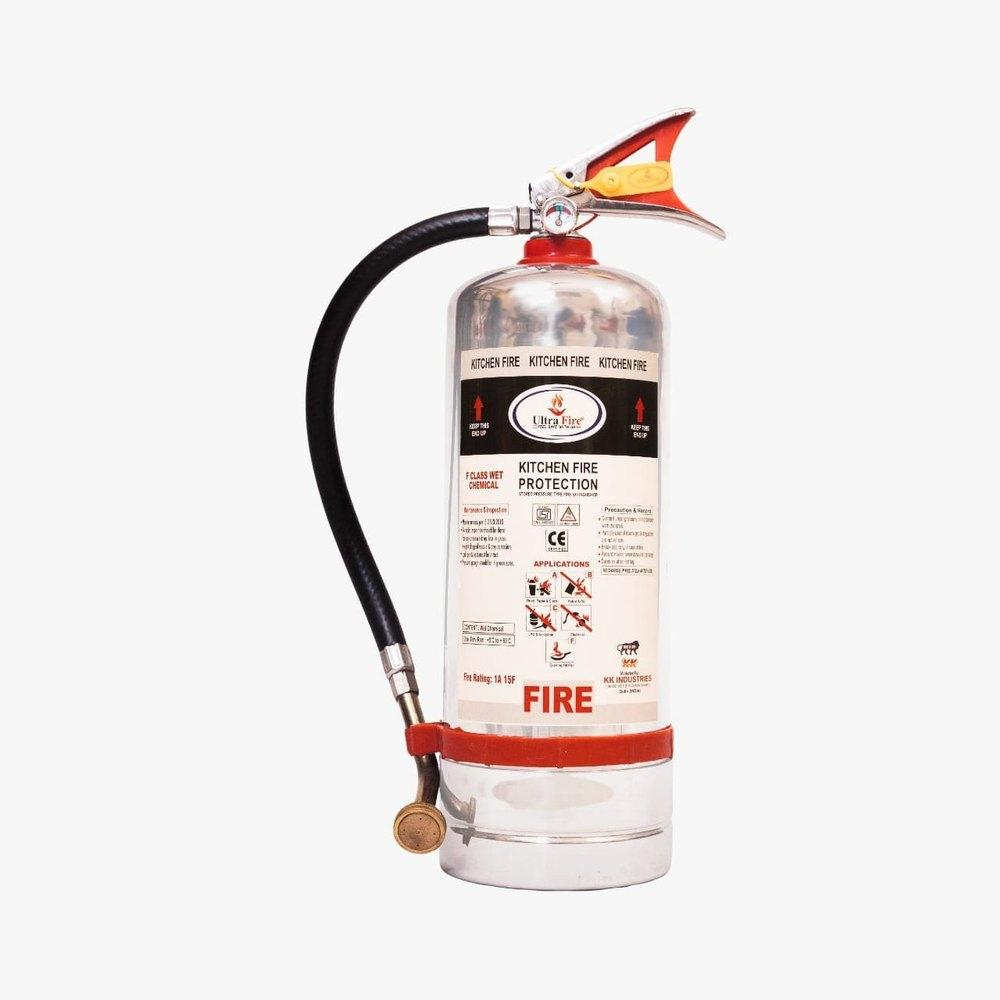Fire Extinguisher: (288, 107, 735, 918)
